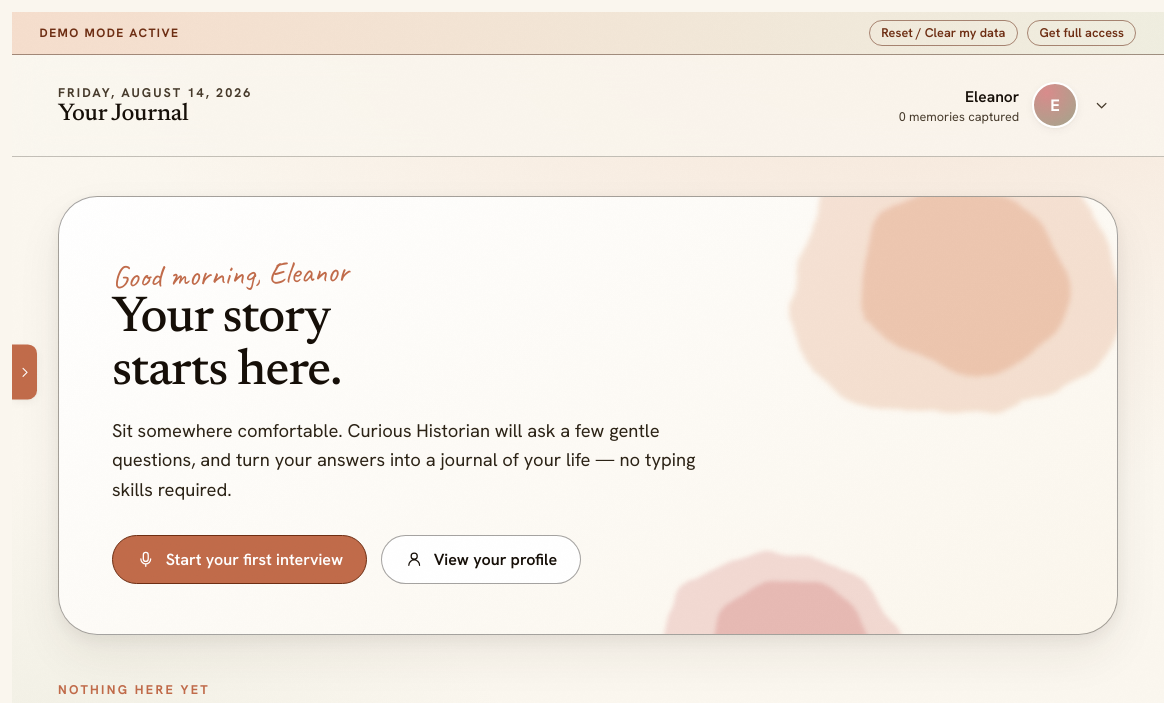
Test: Reset demo data › clears all profiles and returns to onboarding
Note: "Reset / Clear my data" lives in the demo-mode banner at the top of every page.
Click the button "Reset / Clear my data" at (943, 33), box [869,20,1018,46]
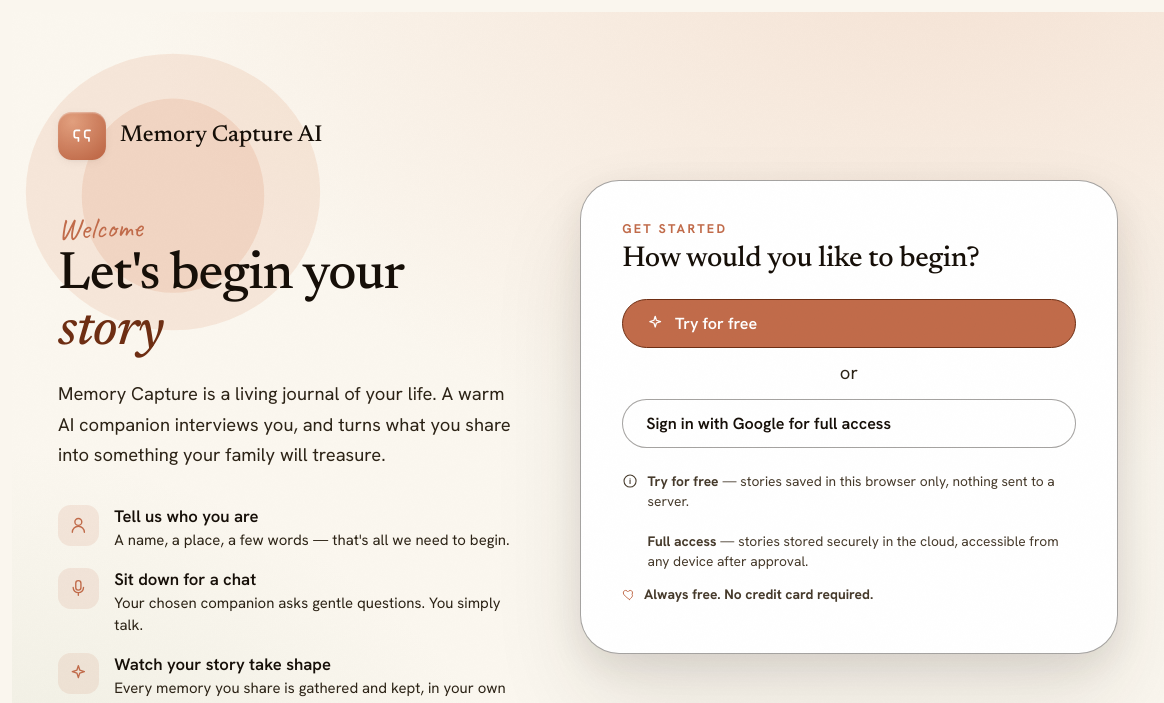
Expected: the button "Try for free" is shown, [622,299,1076,348]
